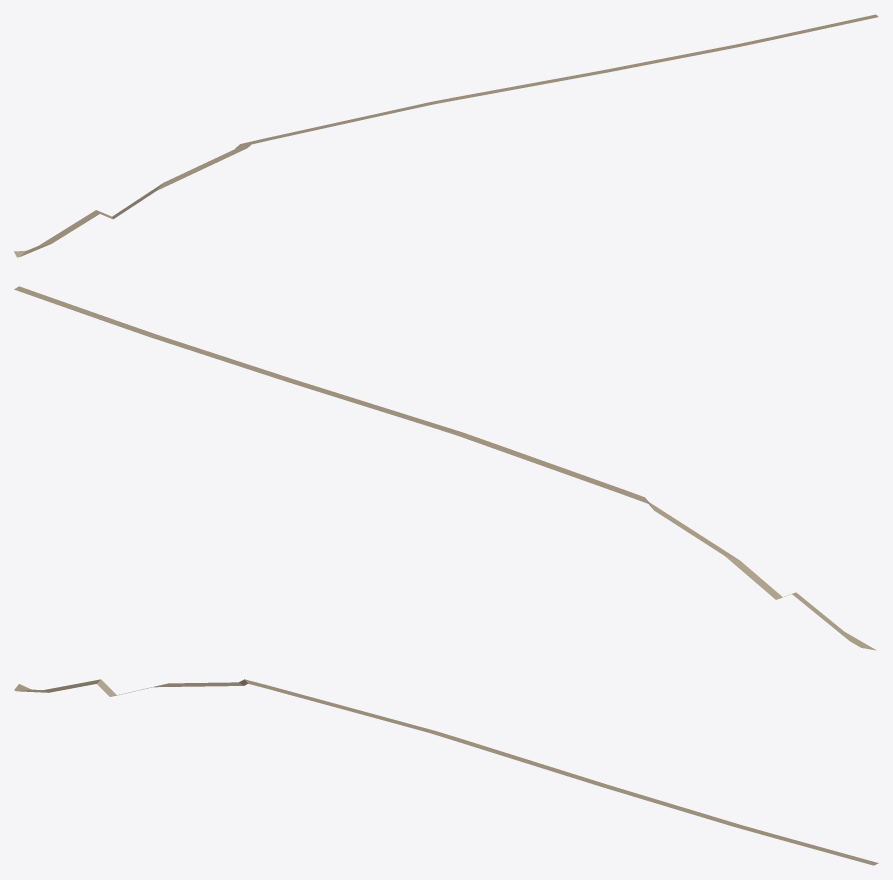
The model's file is farm_-1_3_track.glb.
3 renders of one model, top to bottom at view 1: azimuth 30°, elevation 25°; view 2: azimuth 150°, elevation 25°; view 3: azimuth 330°, elevation 25°, orthographic. The views are drawn at different scales.
Visible parts, largest first — view 1: geometry_0; view 2: geometry_0; view 3: geometry_0.
Part boxes in pixels (bbox=[...]): geometry_0: bbox=[14, 14, 878, 257]; geometry_0: bbox=[14, 286, 875, 650]; geometry_0: bbox=[14, 679, 878, 865].
Size of the model in its own units: 409 by 40.17 by 50.55.
